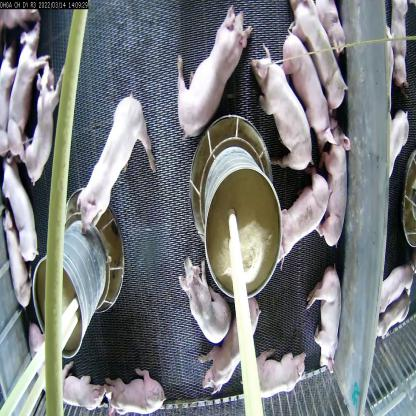Pig: (77, 91, 160, 238), (176, 8, 252, 136), (247, 43, 313, 174), (268, 171, 333, 273), (288, 0, 348, 110), (280, 27, 332, 151), (198, 298, 261, 395), (312, 119, 354, 249), (1, 146, 43, 267), (178, 256, 233, 346), (27, 60, 64, 192), (99, 359, 177, 415), (10, 25, 40, 158), (307, 260, 341, 377), (2, 206, 37, 316), (240, 349, 307, 398), (60, 356, 104, 416), (27, 328, 64, 398), (373, 262, 416, 315), (313, 0, 349, 57), (389, 103, 412, 175)
